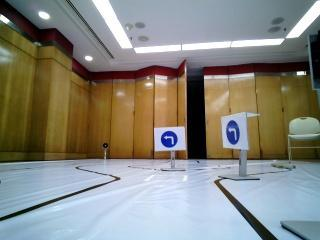left: (154, 128, 187, 149), (223, 120, 246, 147)
